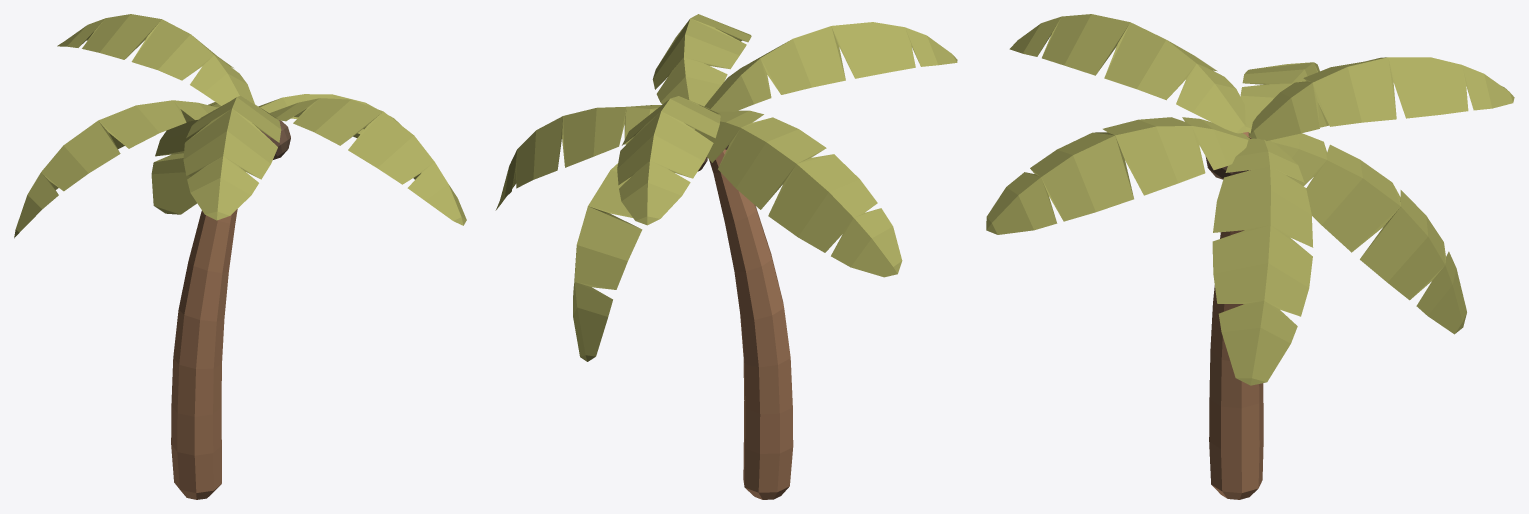
Rendered from pohon 2.fbx.
The picture shows the model from 3 angles, left to right: view 1: azimuth 30°, elevation 25°; view 2: azimuth 150°, elevation 25°; view 3: azimuth 270°, elevation 25°; orthographic projection. The views are drawn at different scales.
Visible parts, largest first — view 1: Cylinder; view 2: Cylinder; view 3: Cylinder.
Part boxes in pixels (x1=…): Cylinder: x1=14, y1=14, x2=466, y2=499; Cylinder: x1=495, y1=14, x2=957, y2=499; Cylinder: x1=986, y1=14, x2=1514, y2=499.
Bounding box in the file's own units: 510 × 504 × 520.
